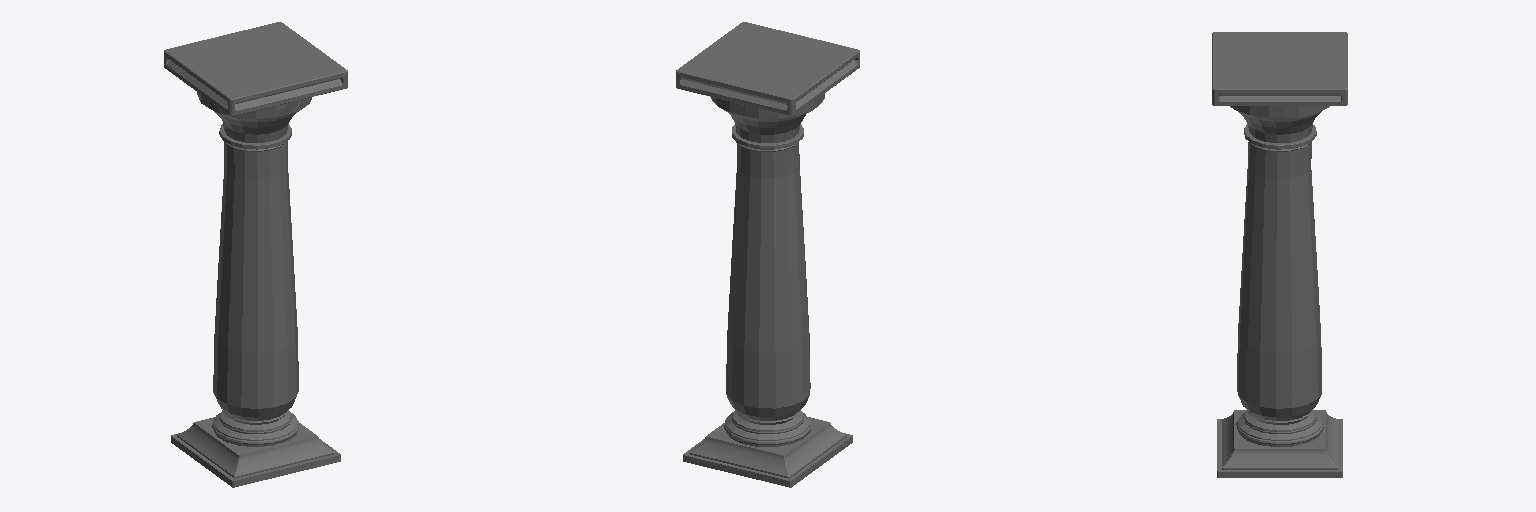
Rendered from column.obj.
3 views of the same model, side by side, from view 1: azimuth 30°, elevation 25°; view 2: azimuth 150°, elevation 25°; view 3: azimuth 270°, elevation 25° (orthographic).
Visible parts, largest first — view 1: sponza_169.001, sponza_178.001, sponza_179.001; view 2: sponza_169.001, sponza_178.001, sponza_179.001; view 3: sponza_169.001, sponza_178.001, sponza_179.001.
Boxes of the visible parts, x1=… form: sponza_169.001: x1=197, y1=92, x2=311, y2=446; sponza_178.001: x1=164, y1=22, x2=347, y2=115; sponza_179.001: x1=171, y1=417, x2=340, y2=487; sponza_169.001: x1=711, y1=94, x2=824, y2=446; sponza_178.001: x1=676, y1=22, x2=859, y2=115; sponza_179.001: x1=683, y1=417, x2=852, y2=487; sponza_169.001: x1=1230, y1=106, x2=1329, y2=446; sponza_178.001: x1=1212, y1=32, x2=1347, y2=105; sponza_179.001: x1=1217, y1=410, x2=1342, y2=477.
Size of the model in its own units: 0.6322 by 2 by 0.6311.